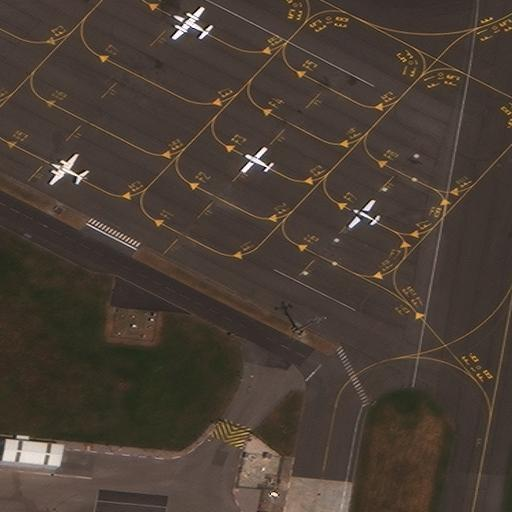Small Civil Transport: (170, 6, 209, 37), (48, 152, 83, 183), (346, 199, 379, 225), (240, 146, 272, 170)
